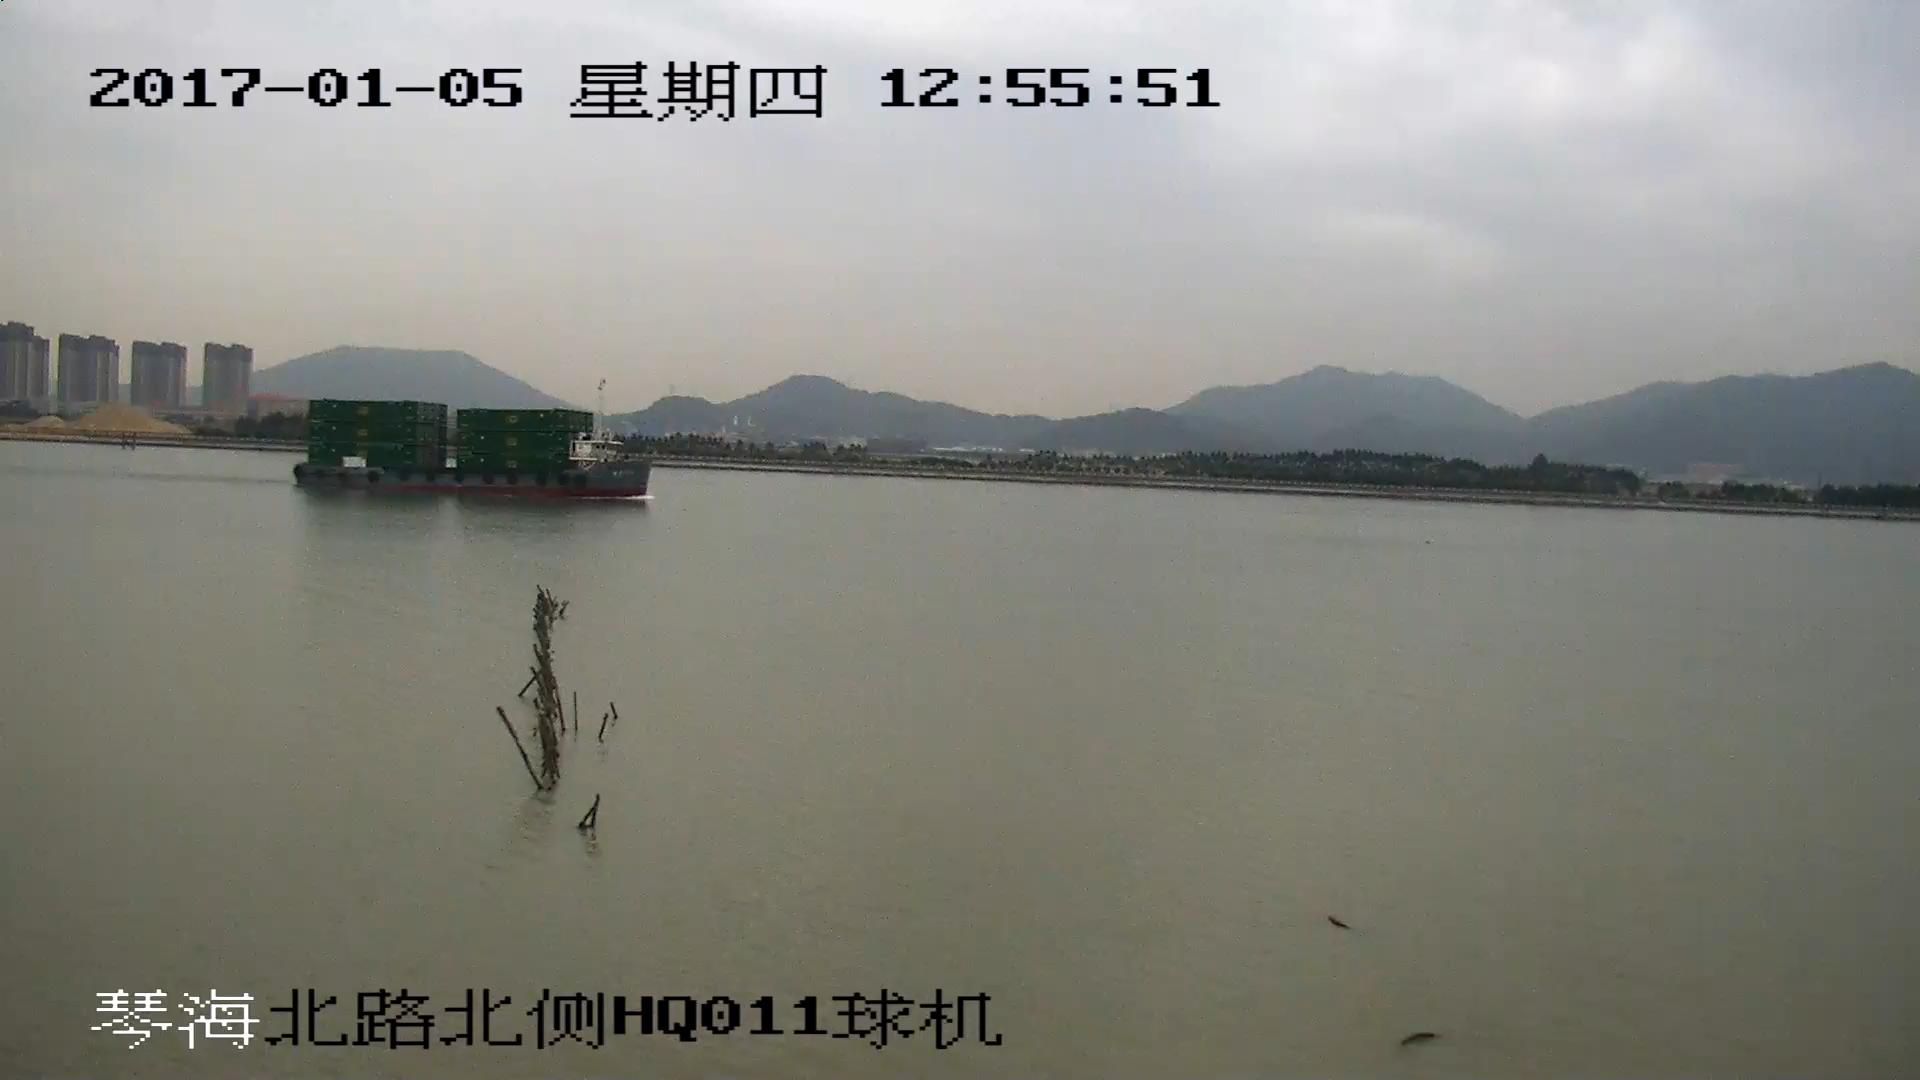container ship: (296, 397, 648, 505)
